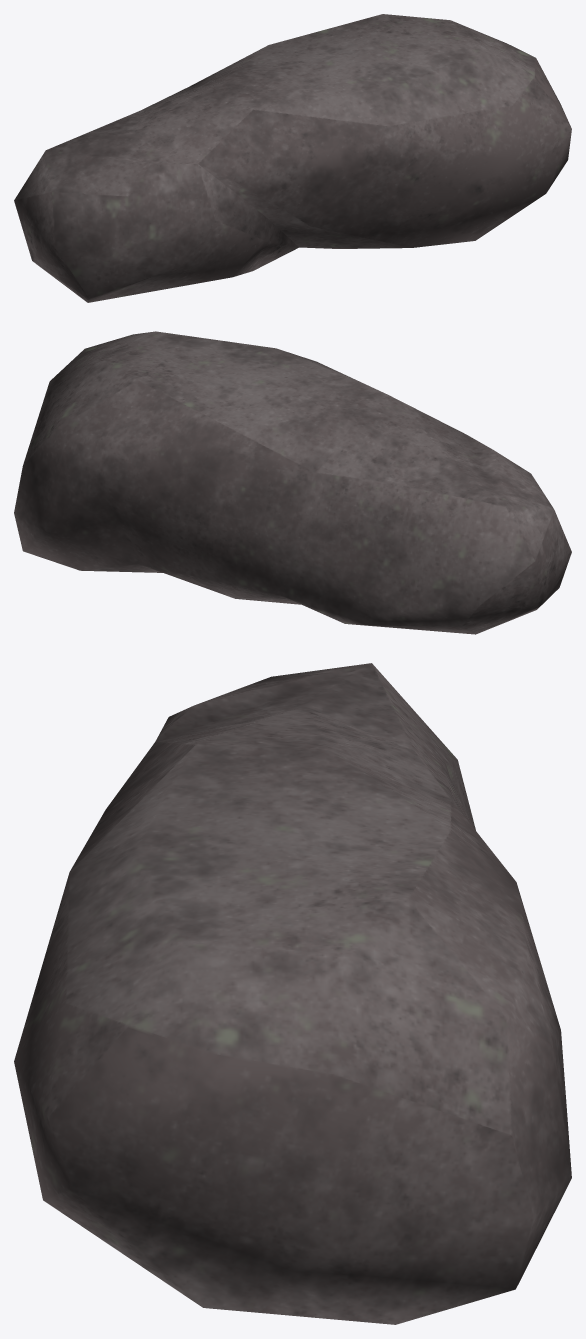
The model's file is SM_SmallRock2.fbx.
3 renders of one model, top to bottom at view 1: azimuth 30°, elevation 25°; view 2: azimuth 150°, elevation 25°; view 3: azimuth 270°, elevation 25°, orthographic. The views are drawn at different scales.
Parts seen in each view (by area): view 1: SM_SmallRock2_LOD0; view 2: SM_SmallRock2_LOD0; view 3: SM_SmallRock2_LOD0.
Boxes of the visible parts, x1=… form: SM_SmallRock2_LOD0: x1=14, y1=14, x2=571, y2=302; SM_SmallRock2_LOD0: x1=14, y1=331, x2=571, y2=634; SM_SmallRock2_LOD0: x1=14, y1=663, x2=571, y2=1324.
Size of the model in its own units: 54.8 by 28.62 by 19.85.
Materials: 1 (1 with a texture image).
